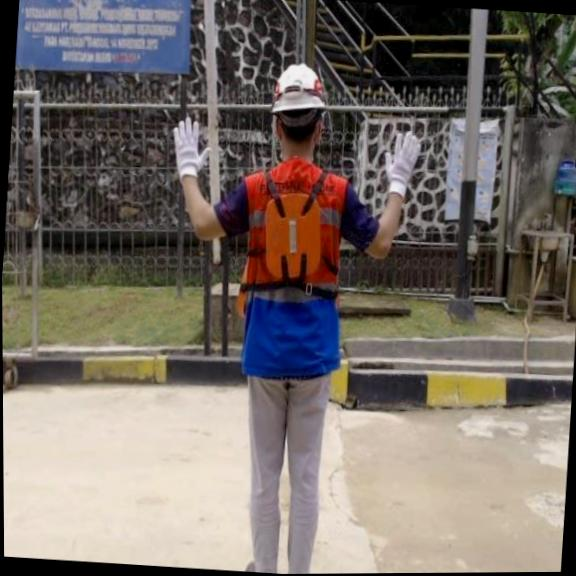safety_vest: (260, 184, 330, 293)
